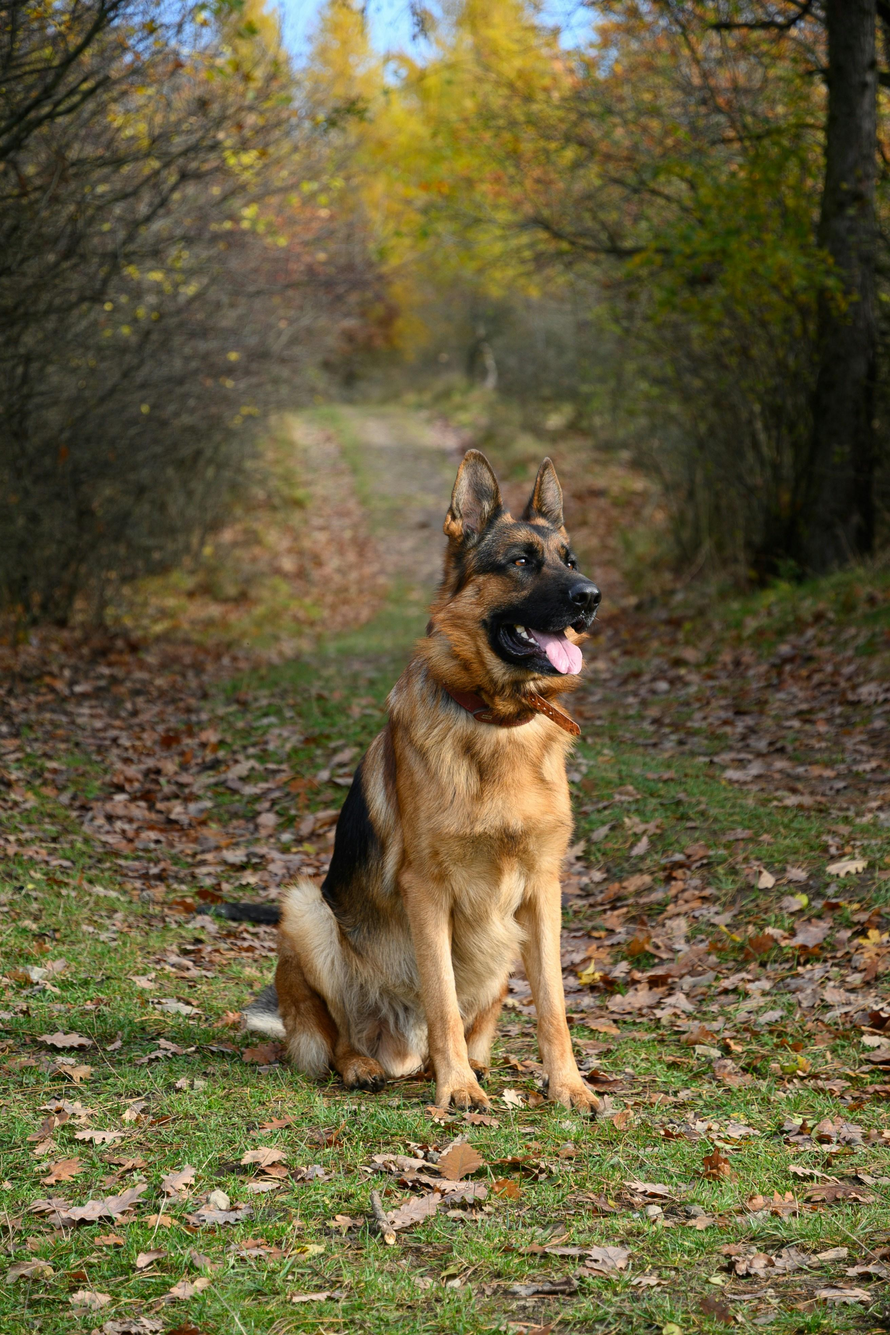german_shepherd: (414, 441, 624, 719)
